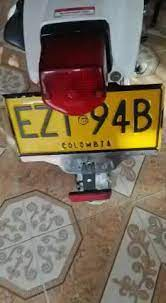placa_moto: (2, 85, 165, 159)
